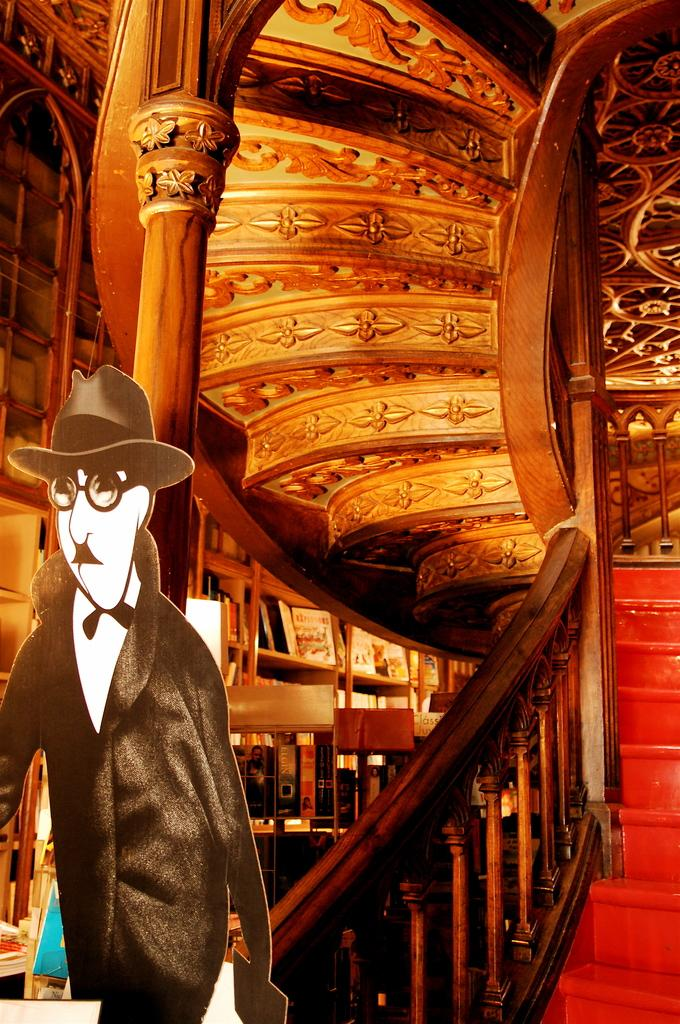Hat: (6, 366, 196, 492)
